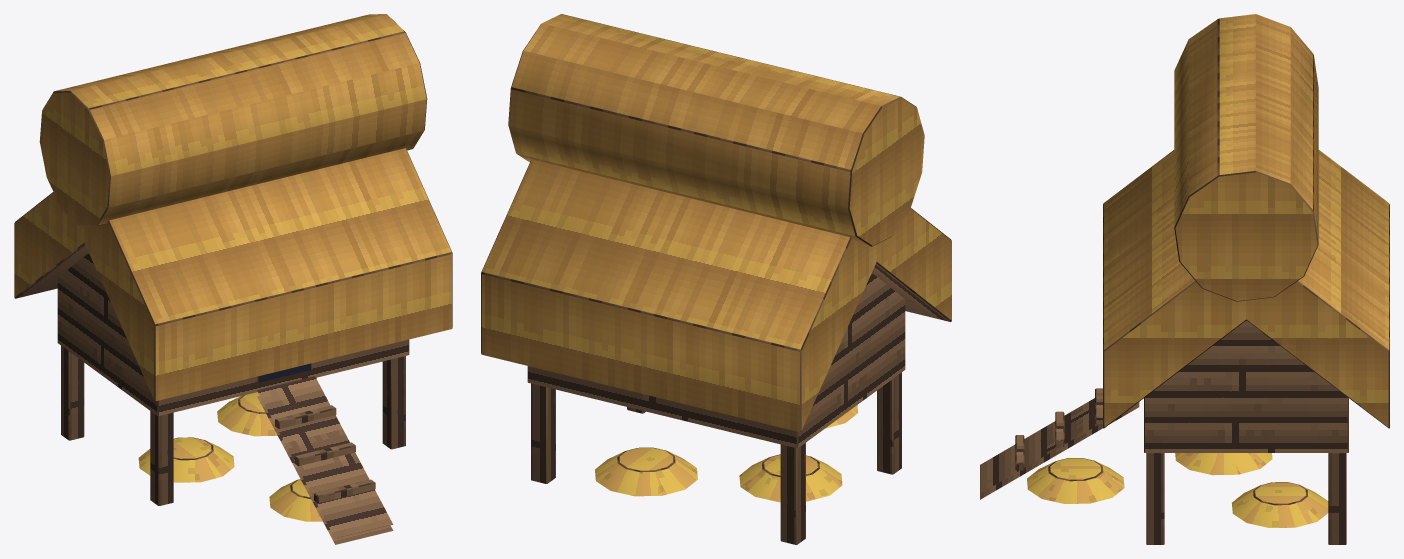
File: cn_chicken_coop_0.glb
3 renders of one model, left to right at view 1: azimuth 30°, elevation 25°; view 2: azimuth 150°, elevation 25°; view 3: azimuth 270°, elevation 25°, orthographic. The views are drawn at different scales.
Parts seen in each view (by area): view 1: cn_chicken_coop_1; view 2: cn_chicken_coop_1; view 3: cn_chicken_coop_1.
Part boxes in pixels (left/top/right/bottom): cn_chicken_coop_1: left=14, top=14, right=452, bottom=544; cn_chicken_coop_1: left=481, top=14, right=951, bottom=544; cn_chicken_coop_1: left=980, top=14, right=1389, bottom=544.
Bounding box in the file's own units: 1.64 × 1.9 × 1.8.
7 materials, 7 textured.
